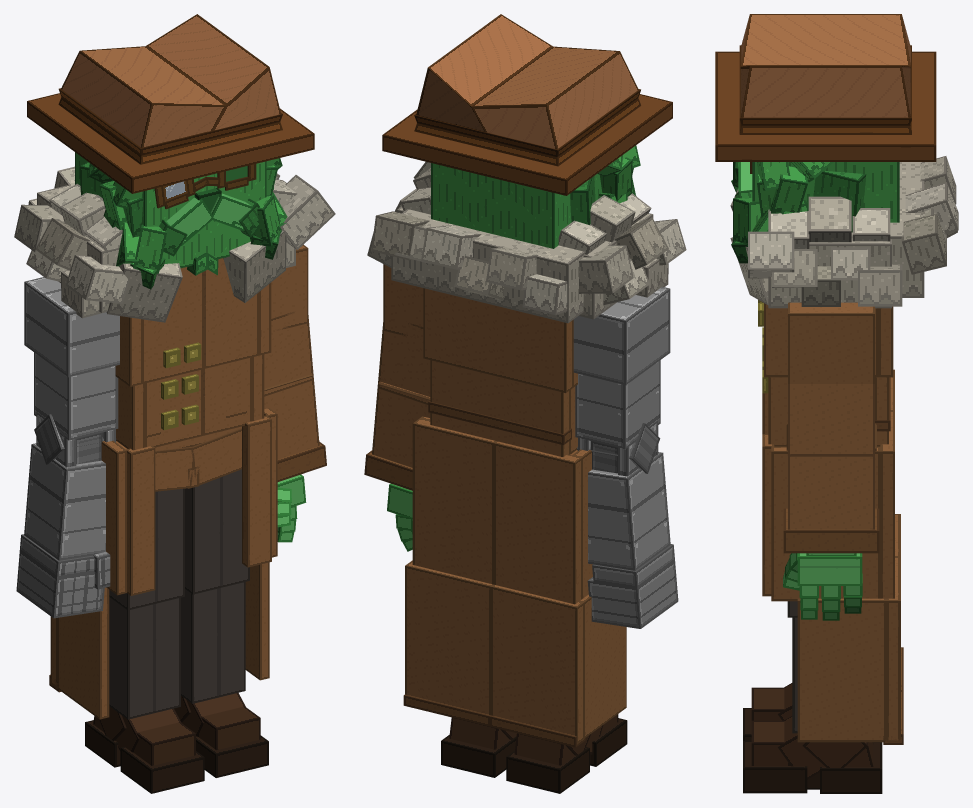
The model's file is cedar.gltf.
3 views of the same model, side by side, from view 1: azimuth 30°, elevation 25°; view 2: azimuth 150°, elevation 25°; view 3: azimuth 270°, elevation 25° (orthographic). The views are drawn at different scales.
Visible parts, largest first — view 1: leg (×4), hat crown, metal arm (×2), ruff tuft (×8), hat brim, coat front, shoe (×4), waist front, metal hand (×3), sole (×3), ruff front L1 (×2), upper arm (+23 smaller); view 2: hat crown, ruff tuft (×13), metal arm (×2), tail upper back L, tail lower back L, tail upper back R, tail lower back R, coat back, hat brim, head, waist back, ruff back (+20 smaller); view 3: hat crown, ruff tuft (×11), tail lower side R, hat brim, sleeve shoulder, sleeve lower, sleeve upper, shoe (×4), fur (×5), sole (×2), tail upper side R, hat band (+14 smaller).
Part boxes in pixels (bbox=[...]): leg (×4): bbox=[109, 469, 249, 719]; hat crown: bbox=[61, 14, 280, 147]; metal arm (×2): bbox=[24, 277, 119, 560]; ruff tuft (×8): bbox=[14, 175, 335, 318]; hat brim: bbox=[27, 93, 314, 193]; coat front: bbox=[142, 258, 259, 383]; shoe (×4): bbox=[115, 692, 260, 765]; waist front: bbox=[145, 357, 252, 447]; metal hand (×3): bbox=[16, 534, 110, 618]; sole (×3): bbox=[85, 720, 268, 793]; ruff front L1 (×2): bbox=[106, 230, 286, 322]; upper arm: bbox=[34, 352, 118, 440]; hat crown: bbox=[416, 14, 638, 149]; ruff tuft (×13): bbox=[371, 187, 686, 315]; metal arm (×2): bbox=[573, 286, 670, 570]; tail upper back L: bbox=[494, 441, 581, 604]; tail lower back L: bbox=[491, 584, 584, 743]; tail upper back R: bbox=[412, 418, 496, 584]; tail lower back R: bbox=[405, 560, 493, 715]; coat back: bbox=[423, 288, 572, 392]; hat brim: bbox=[382, 94, 672, 195]; head: bbox=[431, 163, 602, 248]; waist back: bbox=[430, 360, 570, 456]; ruff back: bbox=[391, 209, 584, 323]; hat crown: bbox=[740, 14, 910, 117]; ruff tuft (×11): bbox=[748, 156, 958, 306]; tail lower side R: bbox=[797, 598, 885, 742]; hat brim: bbox=[715, 51, 936, 161]; sleeve shoulder: bbox=[788, 302, 874, 383]; sleeve lower: bbox=[788, 456, 874, 529]; sleeve upper: bbox=[788, 384, 874, 456]; shoe (×4): bbox=[751, 687, 867, 779]; fur (×5): bbox=[733, 162, 866, 246]; sole (×2): bbox=[743, 741, 882, 793]; tail upper side R: bbox=[771, 446, 880, 601]; hat band: bbox=[739, 45, 911, 134].
Size of the model in its own units: 2.21 by 5.47 by 1.65.
Materials: 1 (1 with a texture image).
